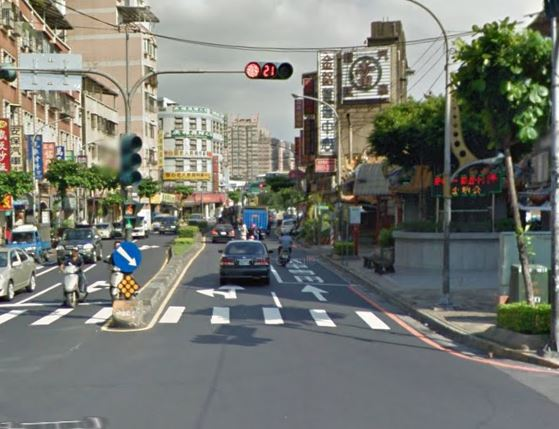Traffic_light_red: (244, 61, 295, 80)
car: (217, 239, 274, 285)
